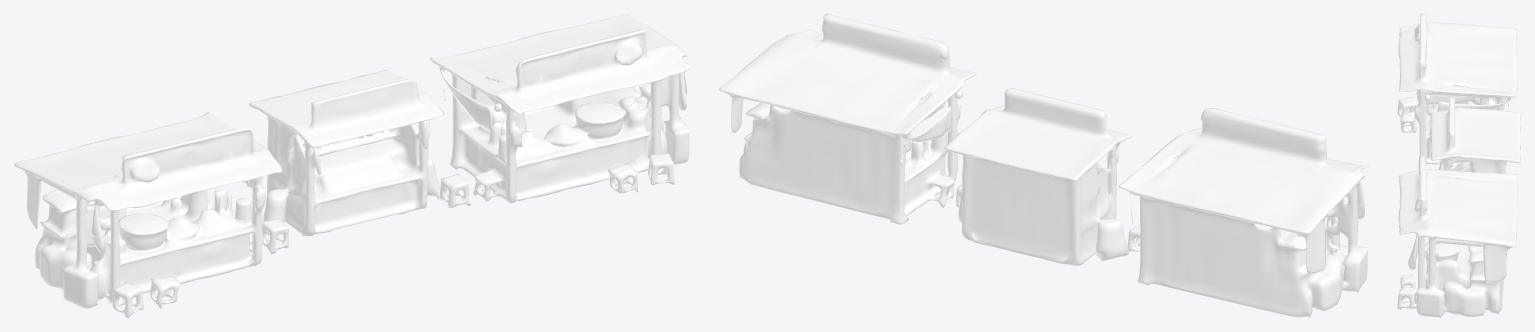
File: three-shops.glb
The picture shows the model from 3 angles, left to right: view 1: azimuth 30°, elevation 25°; view 2: azimuth 150°, elevation 25°; view 3: azimuth 270°, elevation 25°; orthographic projection. The views are drawn at different scales.
Visible parts, largest first — view 1: model; view 2: model; view 3: model.
Boxes of the visible parts, box(x1,y1,x2,y2) form: model: box(14, 14, 690, 317); model: box(719, 14, 1368, 317); model: box(1397, 14, 1520, 317).
Bounding box in the file's own units: 1.9 × 0.4313 × 0.4522.
1 material, 1 textured.
